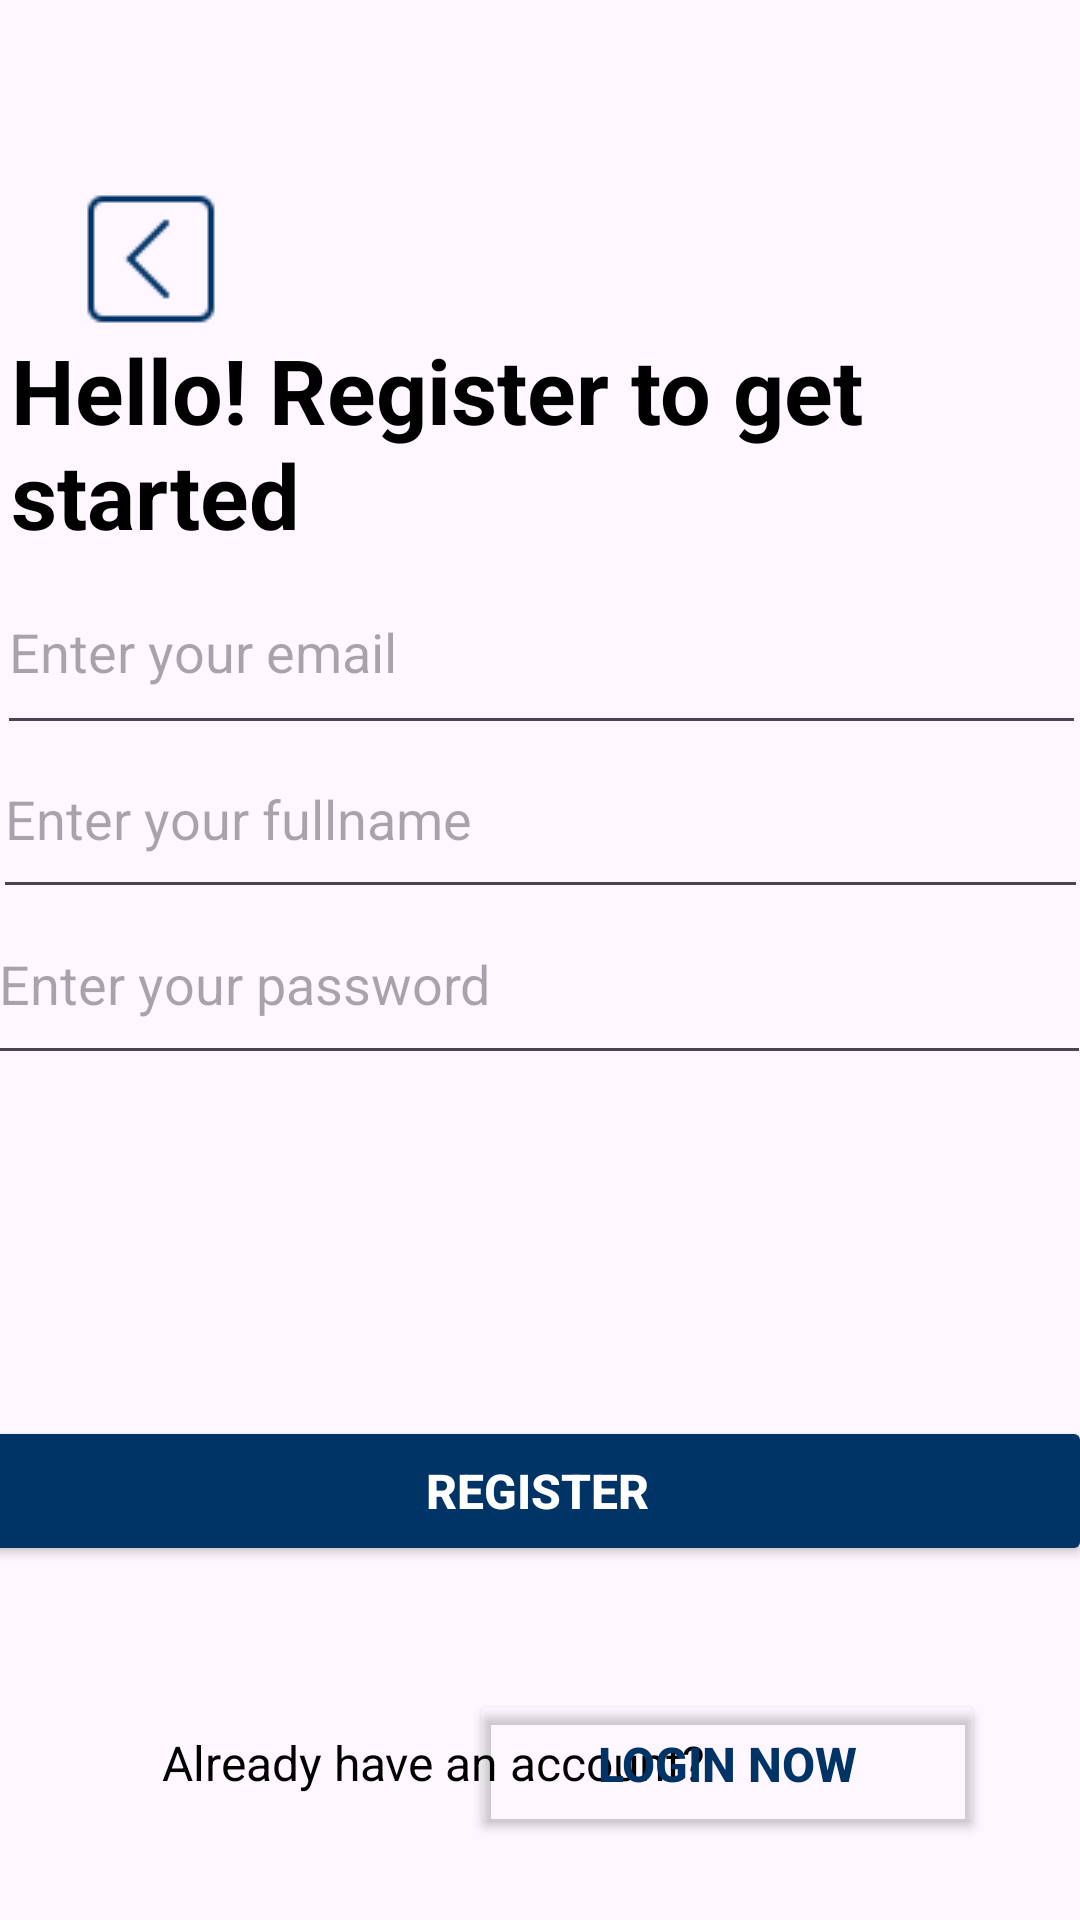

Screen size 1080*1920. Icon name, then its center in pixels as (x=x, y=y):
back button: (x=151, y=259)
